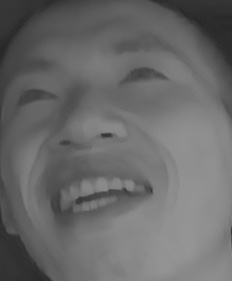eye: (114, 61, 169, 100), (13, 82, 59, 119)
mouth: (42, 155, 152, 229)
